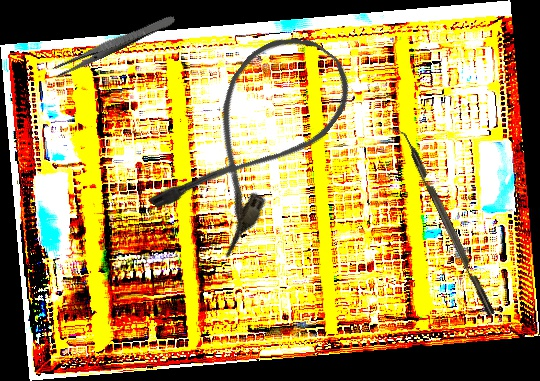Cannula: (142, 15, 367, 262)
Chopper: (389, 121, 495, 321)
Dressing Forceps: (51, 10, 177, 80)
